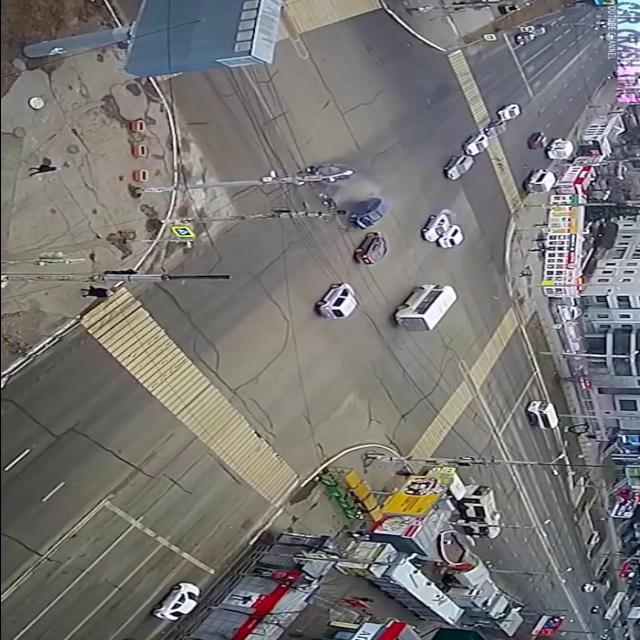accident: (297, 160, 407, 233)
non_accident: (438, 101, 530, 182)
